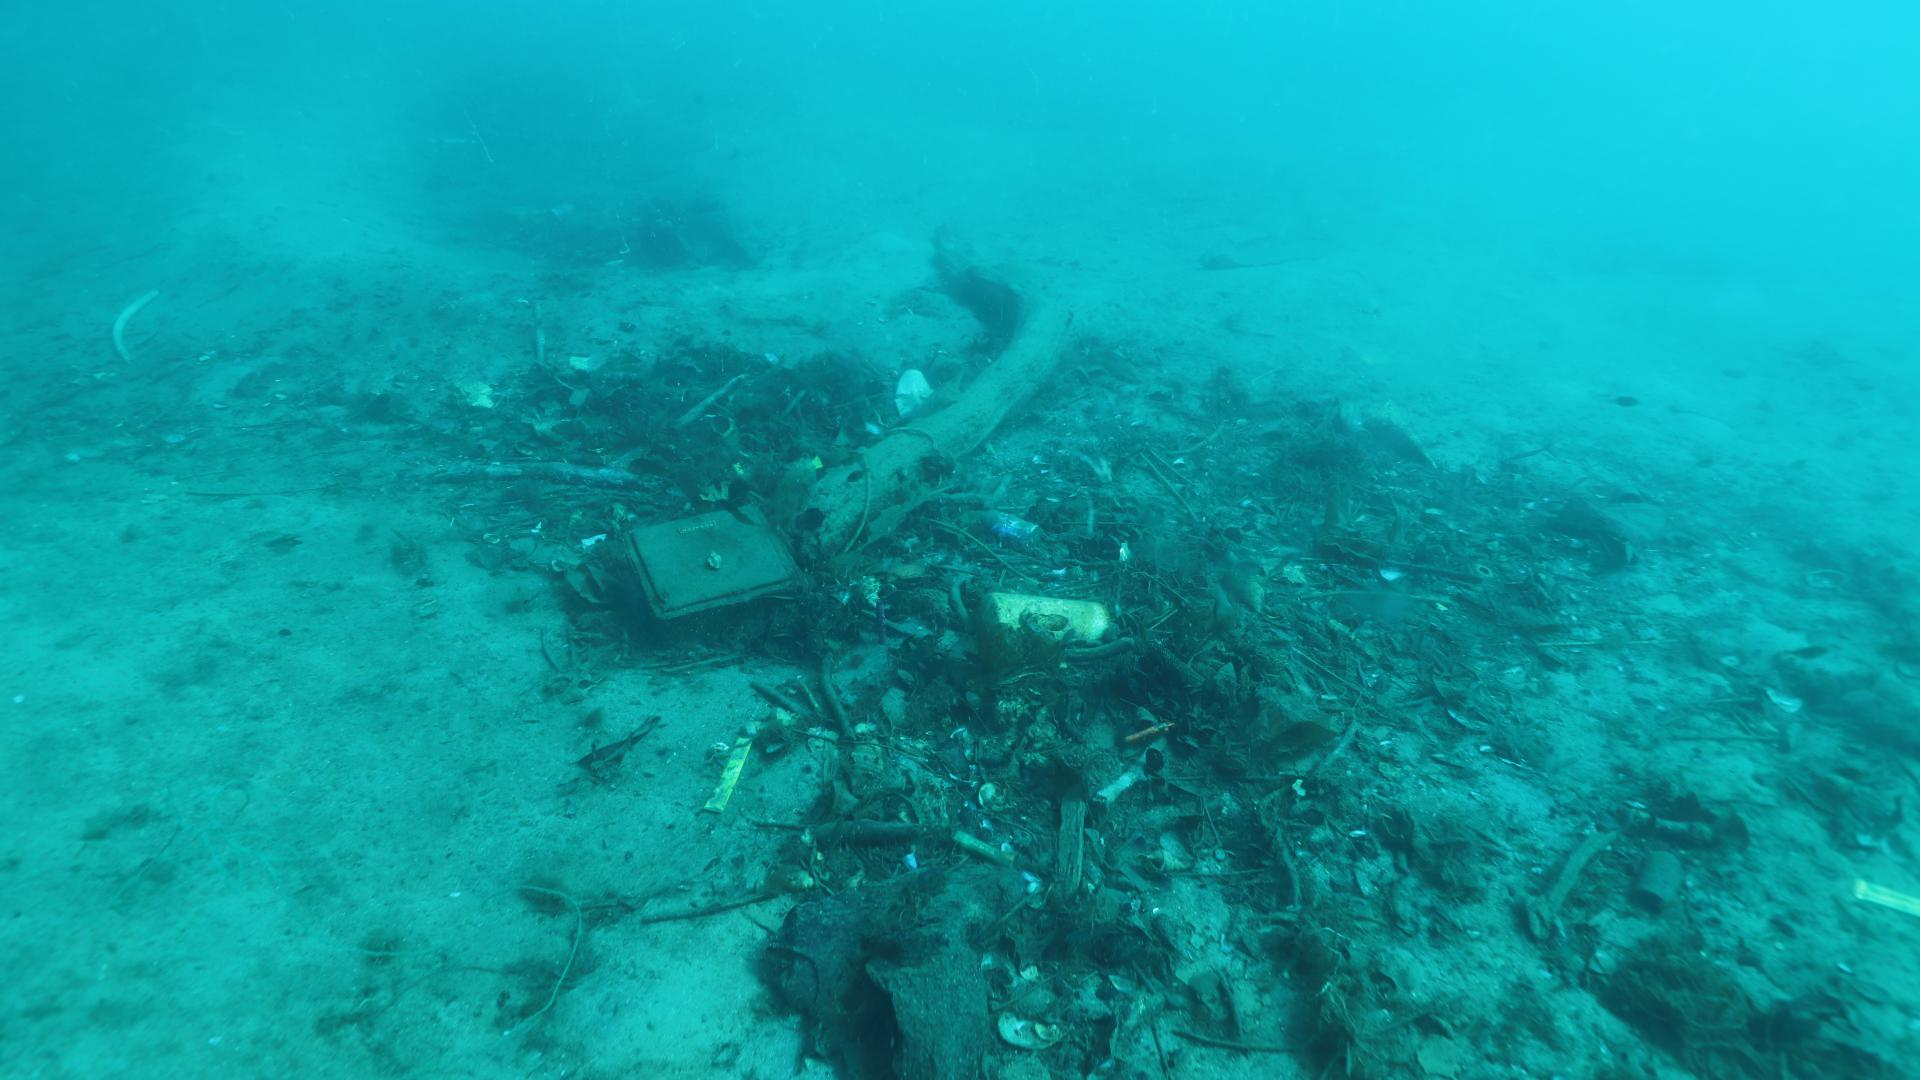wood: (794, 220, 1073, 554)
